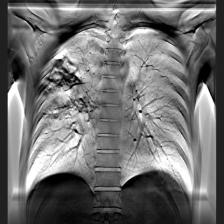tuberculosis: (23, 17, 198, 207)
